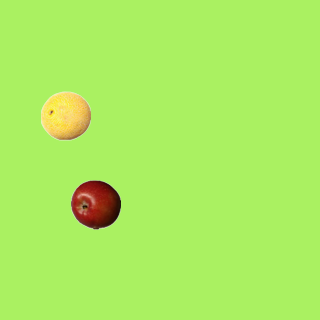Apple Braeburn: (70, 179, 120, 229)
Cantaloupe 1: (40, 90, 90, 140)
